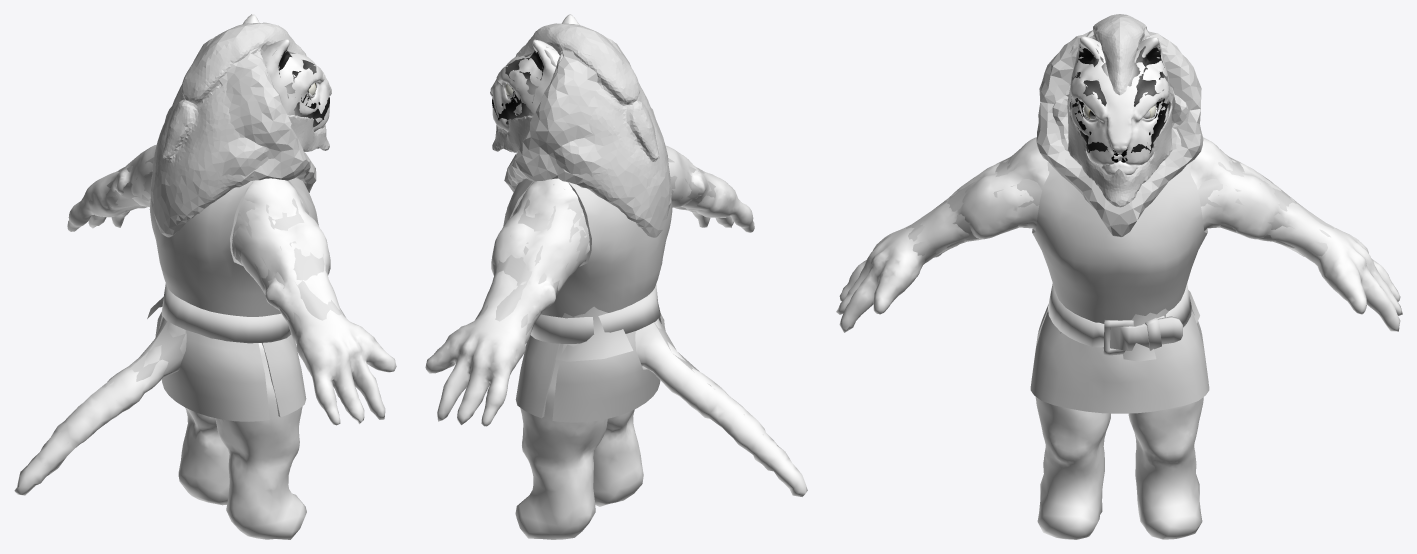
The model's file is MaleCat.fbx.
3 renders of one model, left to right at view 1: azimuth 30°, elevation 25°; view 2: azimuth 150°, elevation 25°; view 3: azimuth 270°, elevation 25°, orthographic. The views are drawn at different scales.
Parts seen in each view (by area): view 1: Sculpt, Tunic, Mane, Mane.001, Torso, Belt, Beard, Head; view 2: Sculpt, Tunic, Mane, Mane.001, Torso, Belt, Head, Beard; view 3: Sculpt, Tunic, Mane.001, Torso, Belt, Mane, Beard, Head.
Boxes of the visible parts, x1,y1,x2,y2 form: Sculpt: (14, 14, 396, 539); Tunic: (149, 178, 318, 421); Mane: (150, 22, 306, 237); Mane.001: (155, 36, 316, 195); Torso: (45, 149, 345, 465); Belt: (161, 283, 291, 343); Beard: (287, 115, 329, 151); Head: (251, 14, 330, 131); Sculpt: (425, 14, 807, 539); Tunic: (503, 178, 672, 422); Mane: (515, 23, 671, 237); Mane.001: (504, 37, 668, 192); Torso: (475, 158, 773, 471); Belt: (530, 284, 660, 343); Head: (492, 42, 557, 132); Beard: (492, 115, 533, 152); Sculpt: (836, 36, 1402, 539); Tunic: (1030, 163, 1209, 413); Mane.001: (1036, 22, 1203, 237); Torso: (906, 149, 1333, 361); Belt: (1048, 283, 1191, 355); Mane: (1052, 14, 1188, 151); Beard: (1067, 95, 1172, 207); Head: (1069, 38, 1171, 162).
Bounding box in the file's own units: 346 × 516 × 517.
